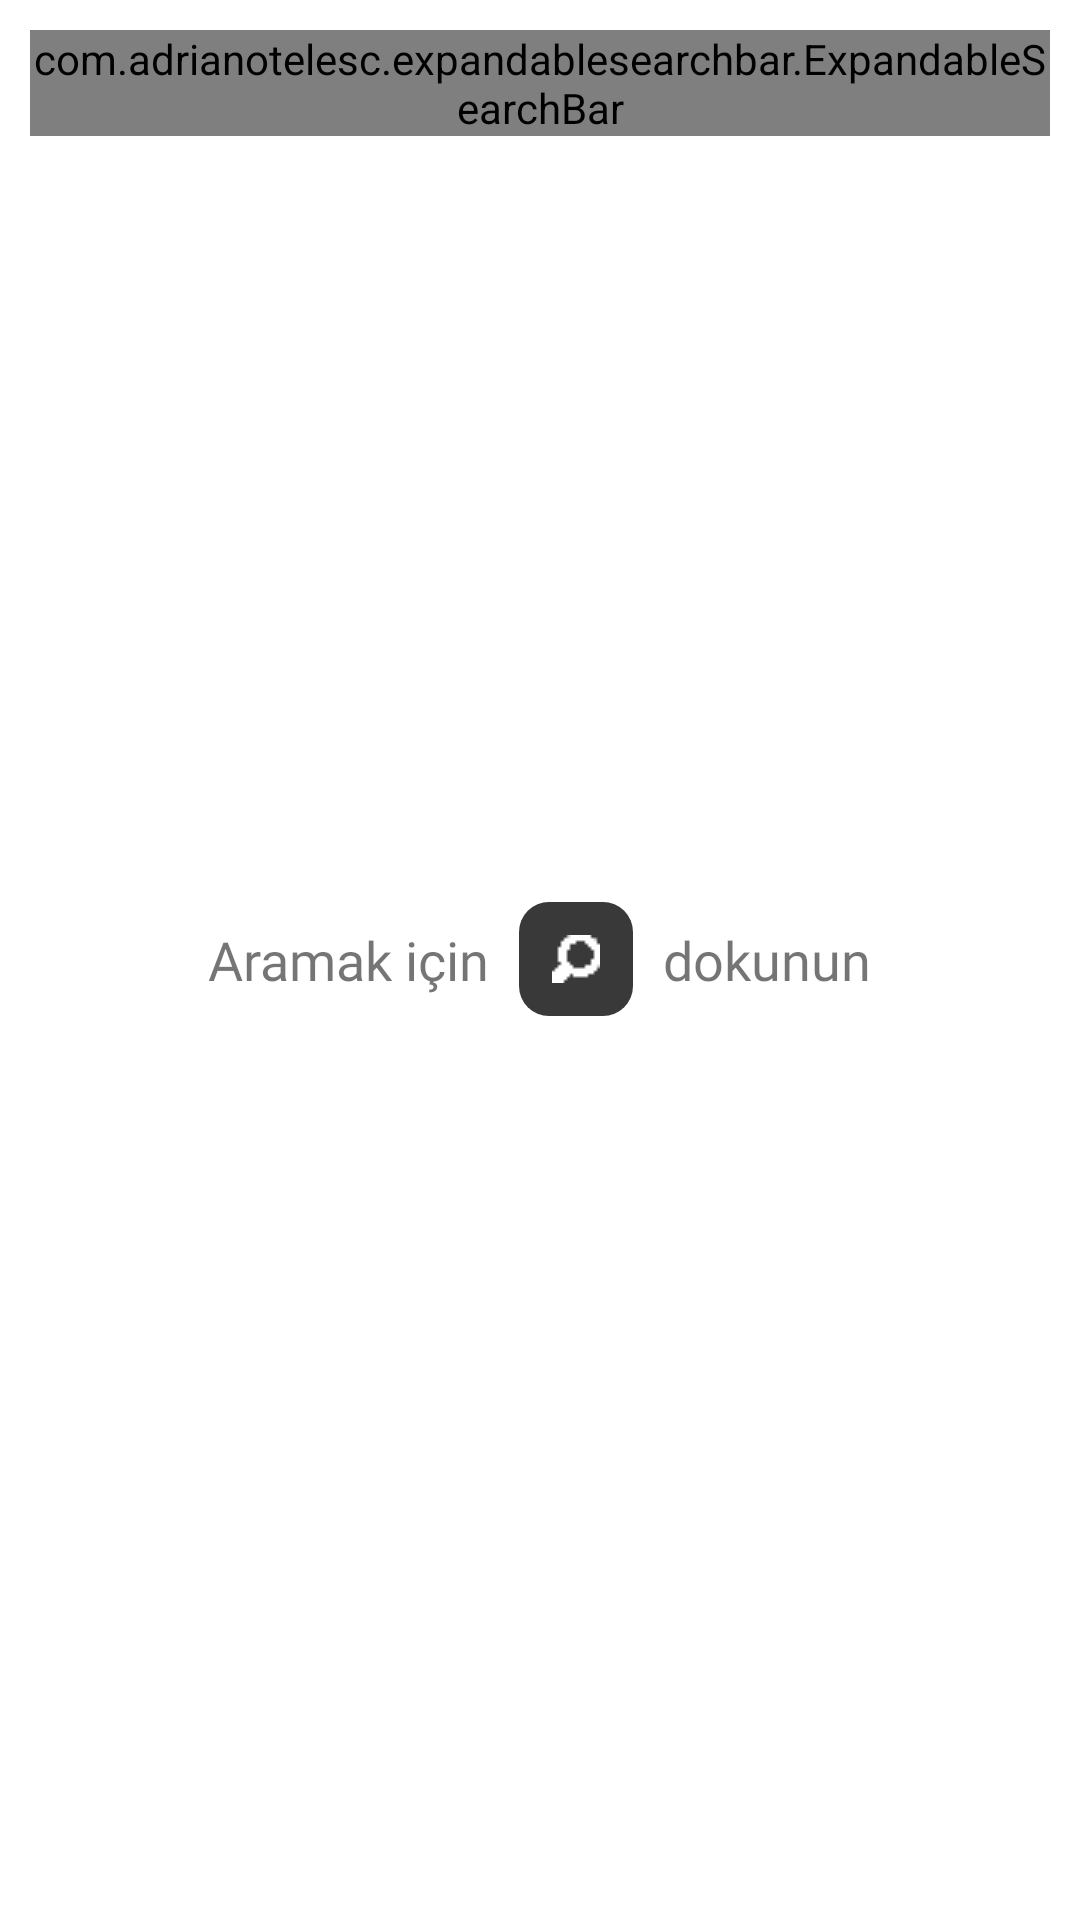

Named icons in this screenshot (1080 x 1920) and their bounding boxes, (x1, y1, x2, y2):
search: (519, 902, 633, 1016)
